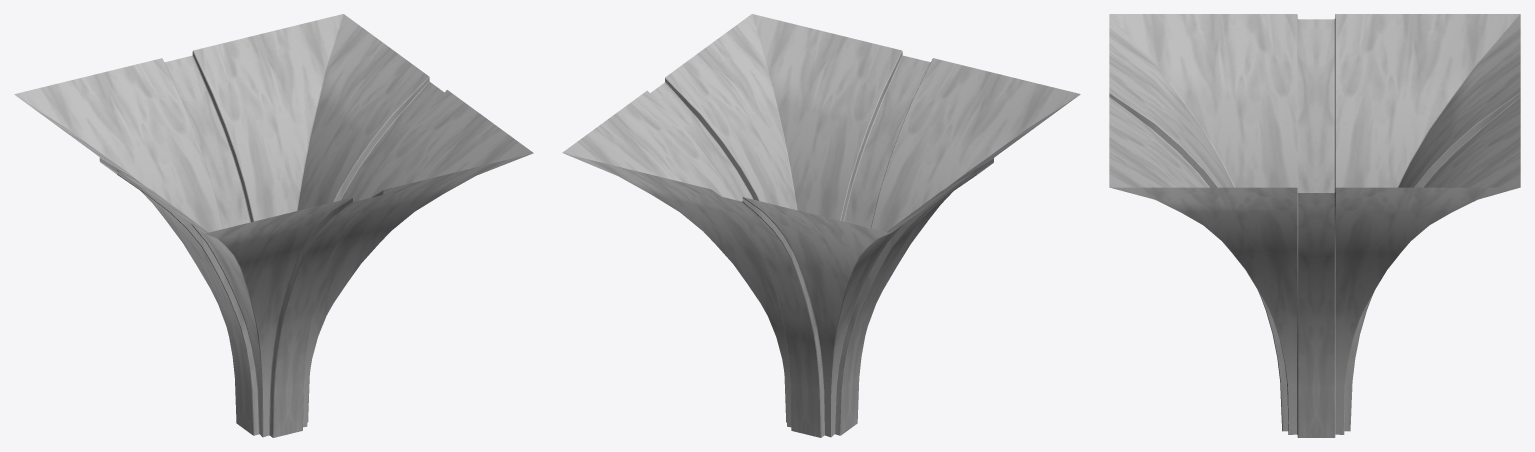
File: SM_Church_Ceiling_Small.fbx
3 renders of one model, left to right at view 1: azimuth 30°, elevation 25°; view 2: azimuth 150°, elevation 25°; view 3: azimuth 270°, elevation 25°, orthographic. The views are drawn at different scales.
Parts seen in each view (by area): view 1: SM_Ceiling_Small_Walls.003; view 2: SM_Ceiling_Small_Walls.003; view 3: SM_Ceiling_Small_Walls.003.
Boxes of the visible parts, box(x1,y1,x2,y2) form: SM_Ceiling_Small_Walls.003: box(14, 14, 533, 437); SM_Ceiling_Small_Walls.003: box(562, 14, 1080, 437); SM_Ceiling_Small_Walls.003: box(1109, 14, 1520, 437).
Size of the model in its own units: 614 by 532 by 614.
